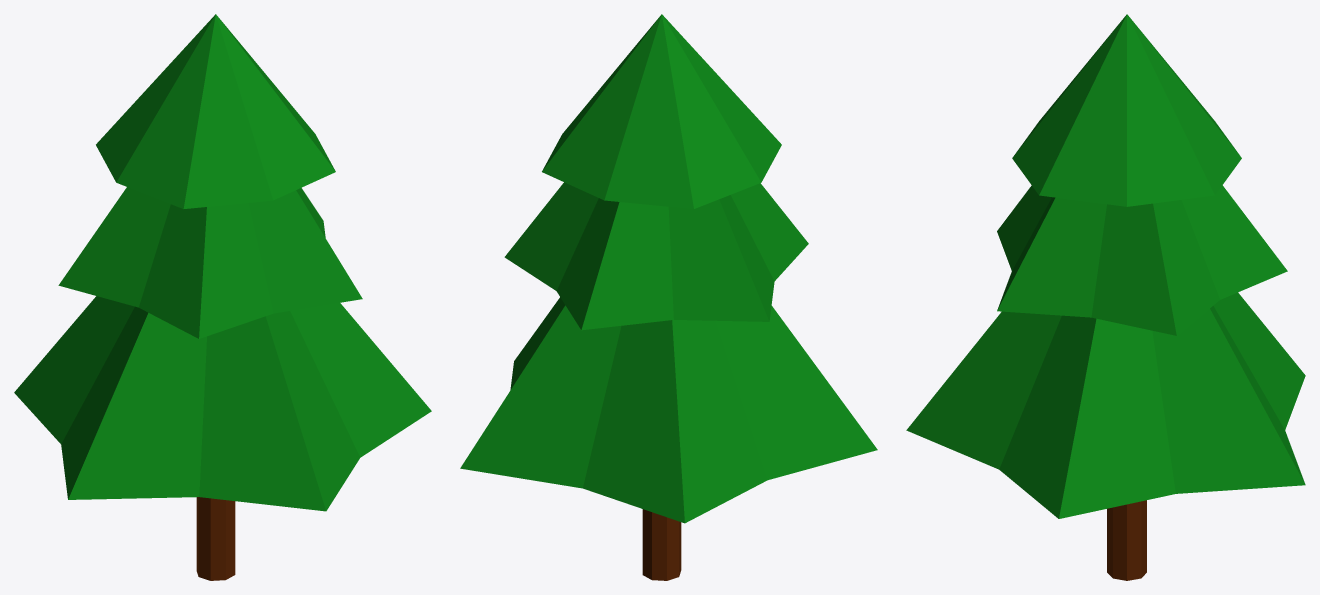
Rendered from Tree1.fbx.
The picture shows the model from 3 angles, left to right: view 1: azimuth 30°, elevation 25°; view 2: azimuth 150°, elevation 25°; view 3: azimuth 270°, elevation 25°; orthographic projection.
Parts seen in each view (by area): view 1: Cone.002, Cone.001, Cone, Cylinder; view 2: Cone.002, Cone.001, Cone, Cylinder; view 3: Cone.002, Cone.001, Cone, Cylinder.
Part boxes in pixels (x1,y1,x2,y2): Cone.002: [14, 296, 431, 511]; Cone.001: [58, 187, 362, 338]; Cone: [96, 14, 335, 208]; Cylinder: [196, 497, 235, 580]; Cone.002: [460, 297, 877, 523]; Cone.001: [504, 182, 808, 330]; Cone: [542, 14, 781, 208]; Cylinder: [642, 509, 681, 580]; Cone.002: [906, 292, 1305, 518]; Cone.001: [997, 185, 1287, 335]; Cone: [1012, 14, 1241, 206]; Cylinder: [1107, 500, 1146, 580].
Bounding box in the file's own units: 726 × 1065 × 690.
